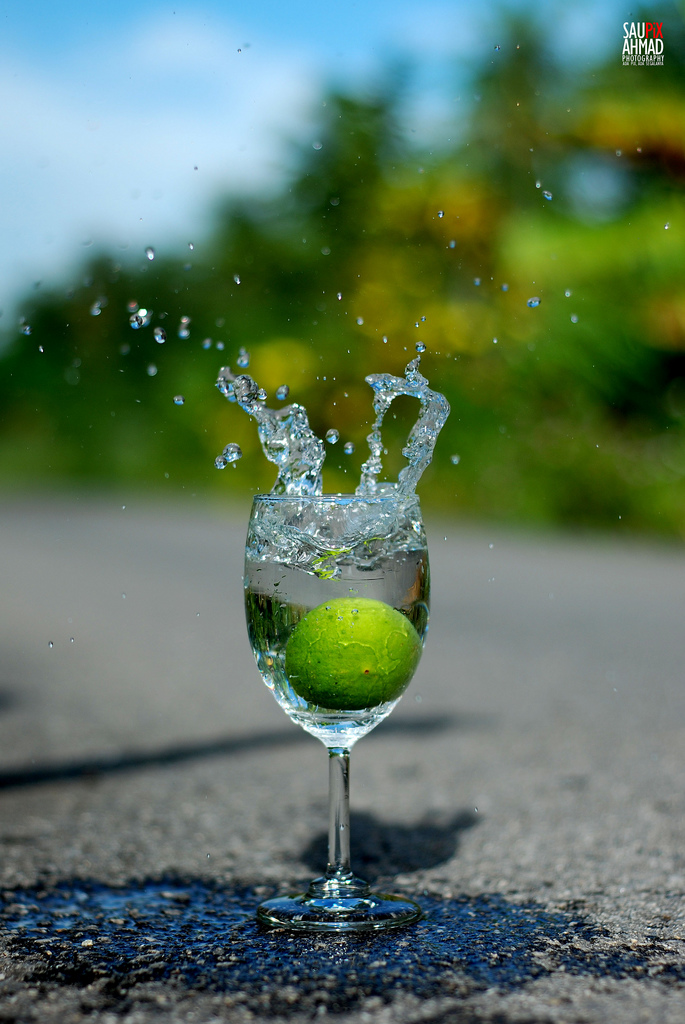glass of water: (248, 471, 440, 906)
